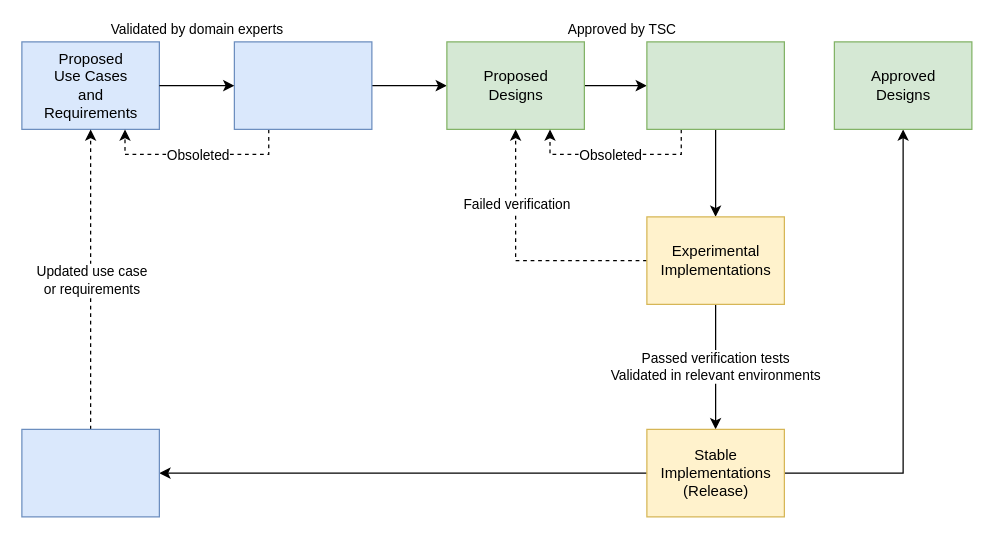
This 994x539 diagram has some shape labels left out. The centre of each missing label's shape, as x and y in pixels:
"Candidate Designs" belongs at point 715,85.
"Candidate Use Cases and Requirements" belongs at point 302,85.
"Supported Use Cases and Requirements" belongs at point 90,472.
